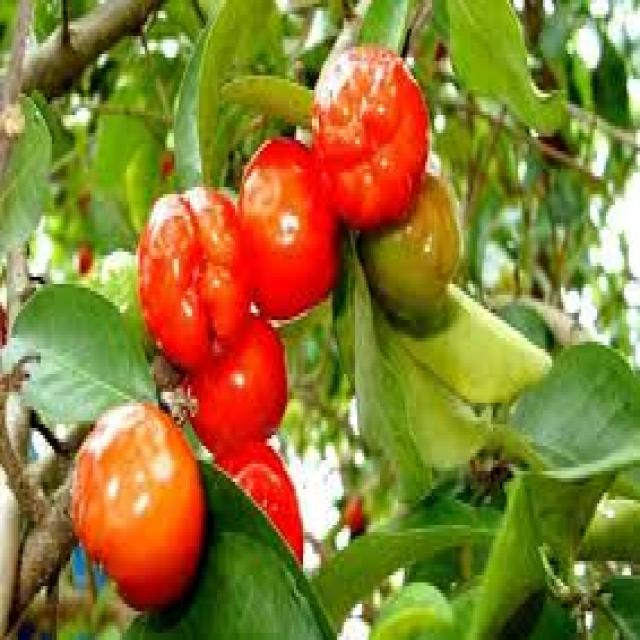organic waste: (72, 395, 210, 615), (308, 43, 428, 230), (136, 180, 248, 360), (238, 136, 332, 312), (360, 172, 459, 324), (179, 309, 285, 446), (215, 439, 301, 575), (344, 493, 362, 532), (73, 237, 89, 266), (160, 147, 170, 169)
